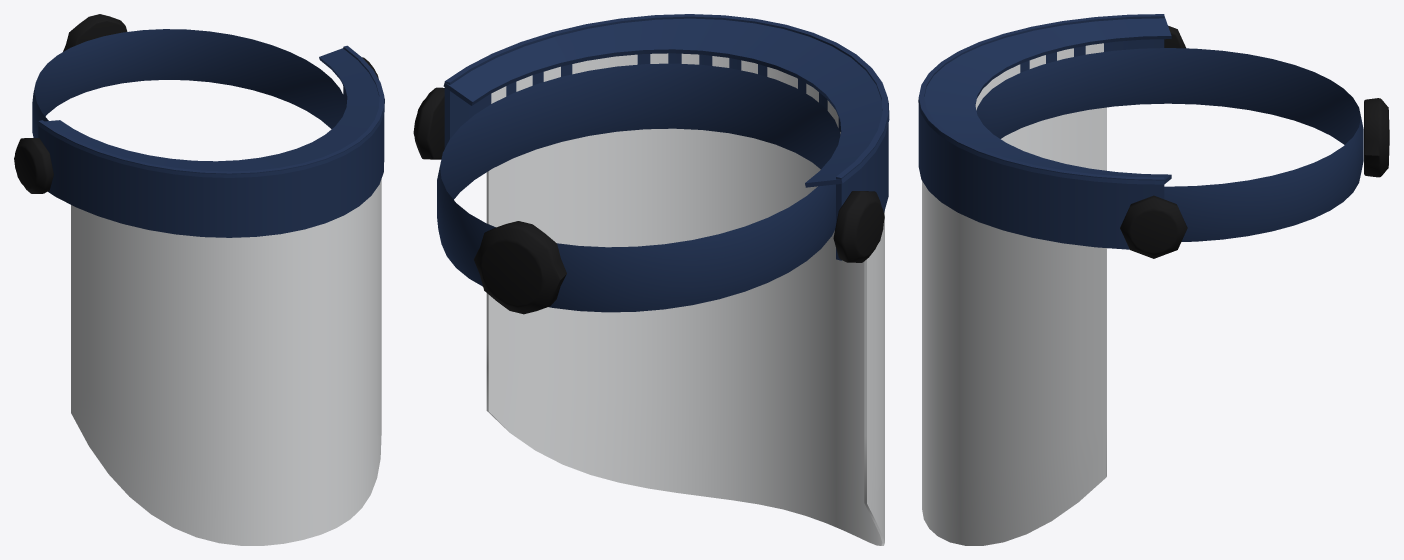
The model's file is visor.glb.
3 renders of one model, left to right at view 1: azimuth 30°, elevation 25°; view 2: azimuth 150°, elevation 25°; view 3: azimuth 270°, elevation 25°, orthographic. The views are drawn at different scales.
Visible parts, largest first — view 1: visor_shield, visor_headgear, visor_knobs; view 2: visor_shield, visor_headgear, visor_knobs; view 3: visor_shield, visor_headgear, visor_knobs.
Boxes of the visible parts, x1,y1,x2,y2 form: visor_shield: (71,179,381,545); visor_headgear: (32,29,384,237); visor_knobs: (14,14,378,193); visor_shield: (486,53,884,545); visor_headgear: (437,14,889,312); visor_knobs: (413,87,884,314); visor_shield: (922,43,1106,545); visor_headgear: (918,14,1363,249); visor_knobs: (1120,25,1389,258).
Bounding box in the file's own units: 0.214 × 0.222 × 0.2299.
